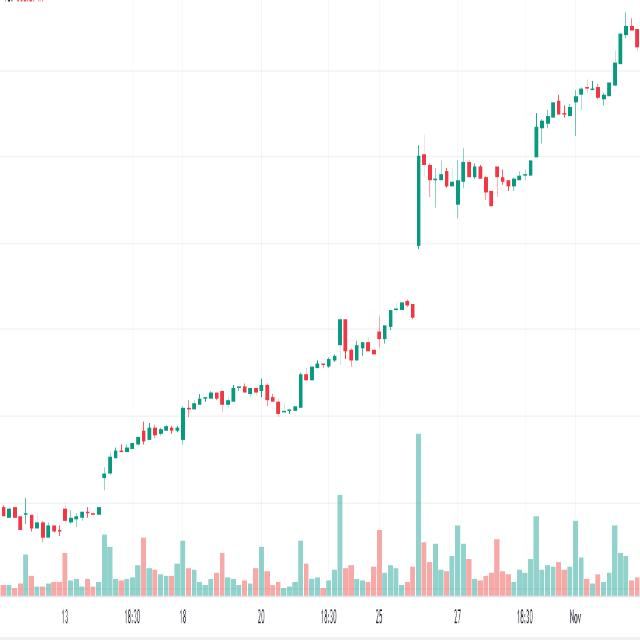Channel-up: (87, 231, 436, 550)
